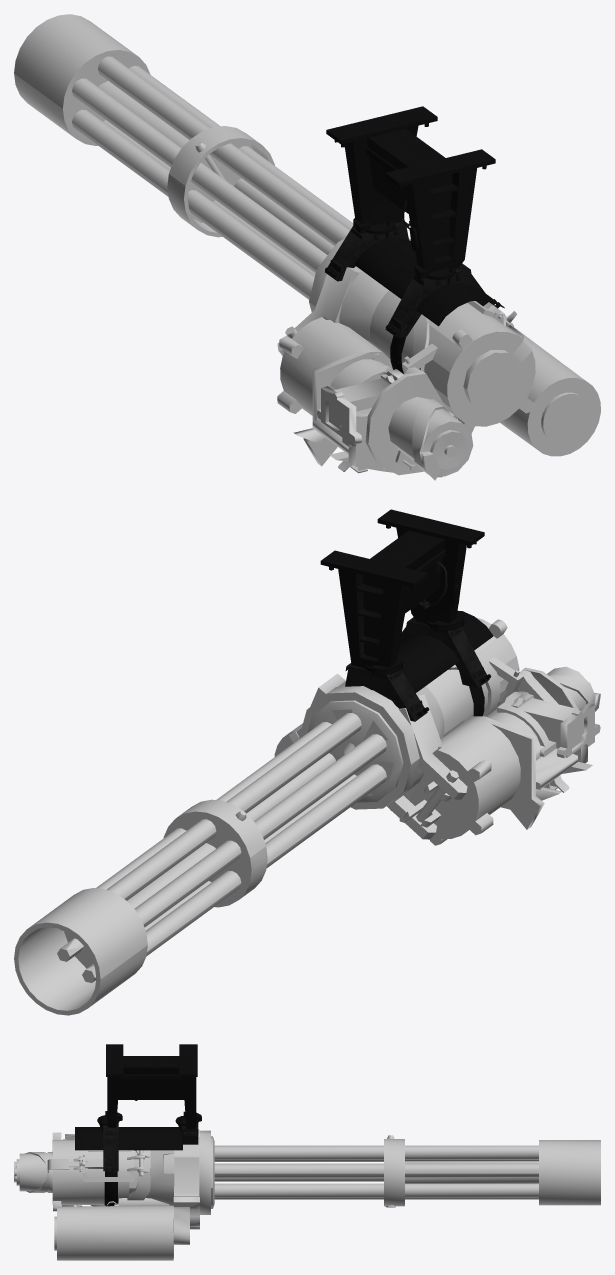
Rendered from minigun for heli.dae.
The picture shows the model from 3 angles, top to bottom: view 1: azimuth 30°, elevation 25°; view 2: azimuth 150°, elevation 25°; view 3: azimuth 270°, elevation 25°; orthographic projection. The views are drawn at different scales.
Visible parts, largest first — view 1: W_Mounted_Gatling_LOD0_0, W_AT_Gatling_suspendedPOD_x2_TWIN_LOD0_0; view 2: W_Mounted_Gatling_LOD0_0, W_AT_Gatling_suspendedPOD_x2_TWIN_LOD0_0; view 3: W_Mounted_Gatling_LOD0_0, W_AT_Gatling_suspendedPOD_x2_TWIN_LOD0_0.
Boxes of the visible parts, <box> form: W_Mounted_Gatling_LOD0_0: <box>14,14,600,480</box>; W_AT_Gatling_suspendedPOD_x2_TWIN_LOD0_0: <box>325,106,504,373</box>; W_Mounted_Gatling_LOD0_0: <box>14,617,600,1015</box>; W_AT_Gatling_suspendedPOD_x2_TWIN_LOD0_0: <box>320,509,493,721</box>; W_Mounted_Gatling_LOD0_0: <box>14,1129,600,1260</box>; W_AT_Gatling_suspendedPOD_x2_TWIN_LOD0_0: <box>75,1044,201,1206</box>.
Bounding box in the file's own units: 0.2288 × 0.7208 × 0.2393.
